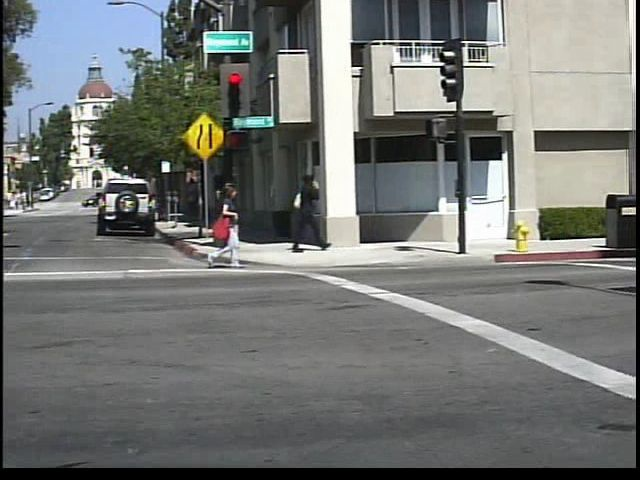person: (209, 178, 260, 269), (295, 168, 336, 254)
